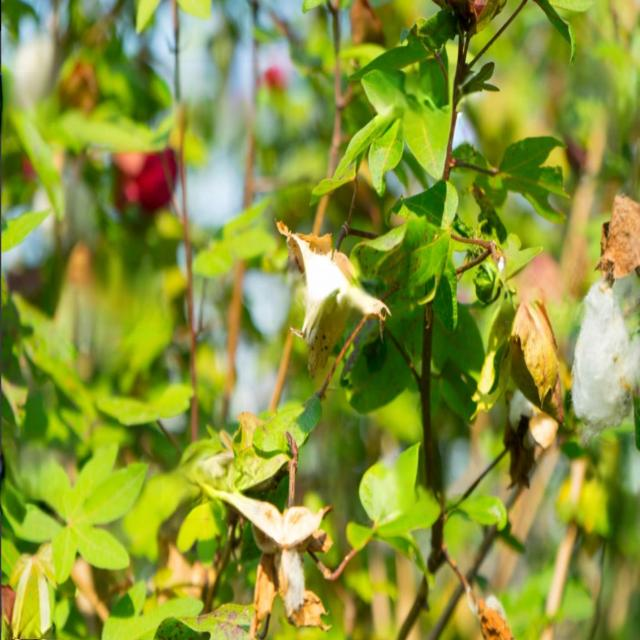Early_blight: (567, 287, 638, 436)
